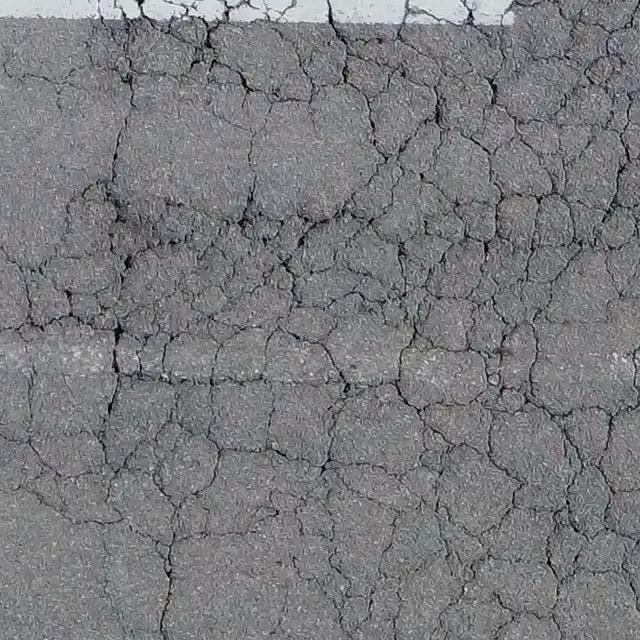PIEL DE COCODRILO: (0, 3, 639, 639)
